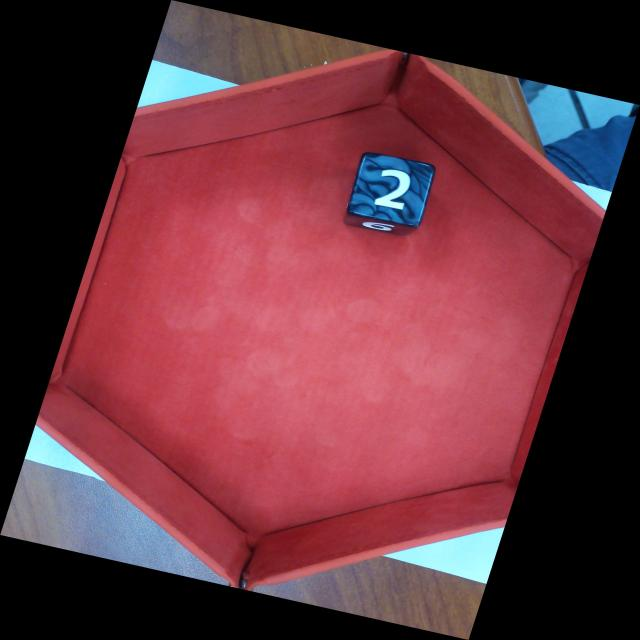dice: (349, 152, 435, 224)
